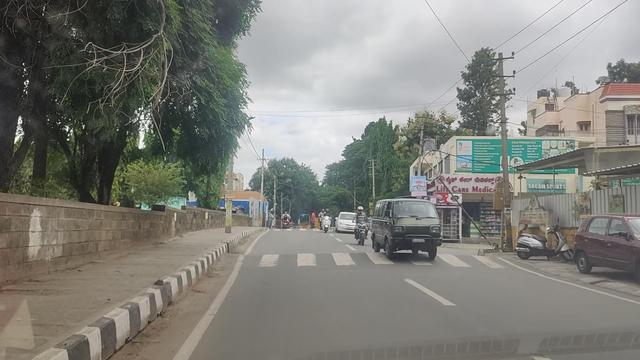LMV: (372, 199, 441, 256)
SpeedBump: (232, 247, 498, 273)
